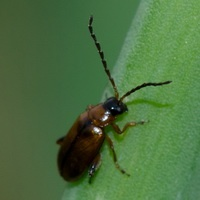insect: (57, 16, 171, 180)
